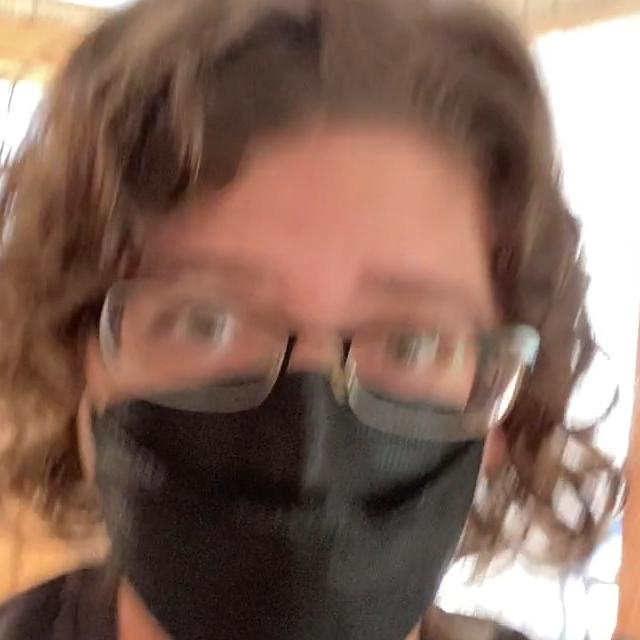Mask: (72, 369, 497, 640)
NO-Hardhat: (27, 0, 553, 258)
Person: (0, 0, 640, 640)
